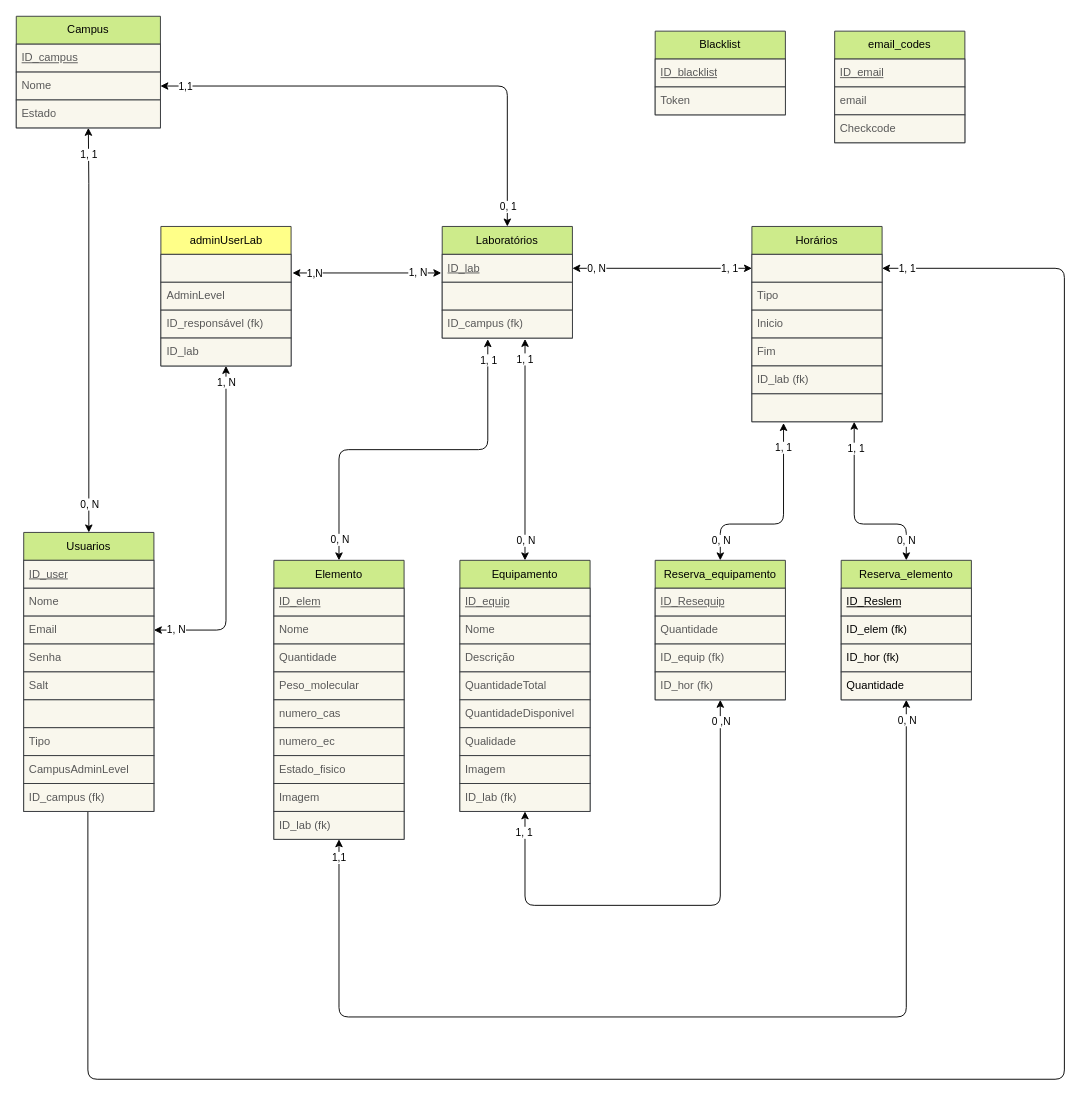
This 1089x1104 diagram has some shape labels left out. Each missing label, with the centre of its shape:
ID_hor: the point at 816,267
ID_relation: the point at 225,267
ID_user (fk): the point at 816,407
ProfilePic: the point at 88,713
Sala: the point at 506,295
